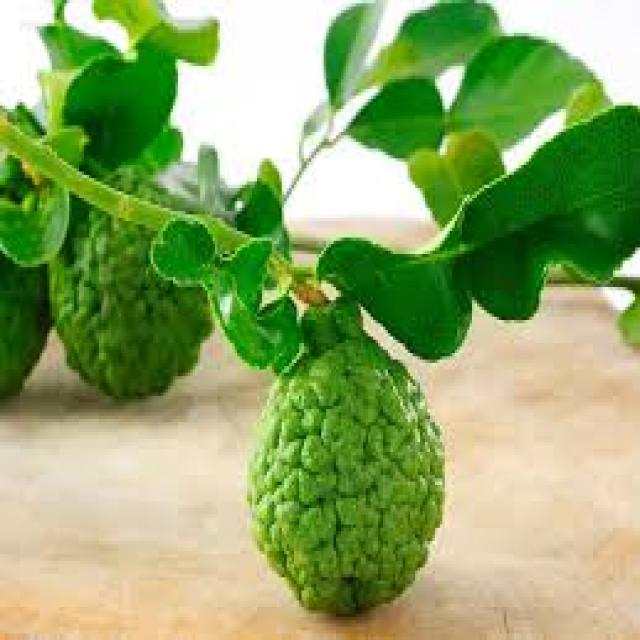Chuc: (245, 303, 444, 617), (47, 142, 227, 399)
